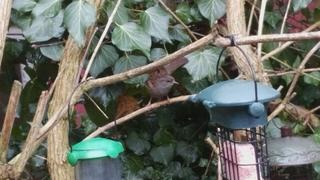dunnock: (145, 55, 189, 111)
